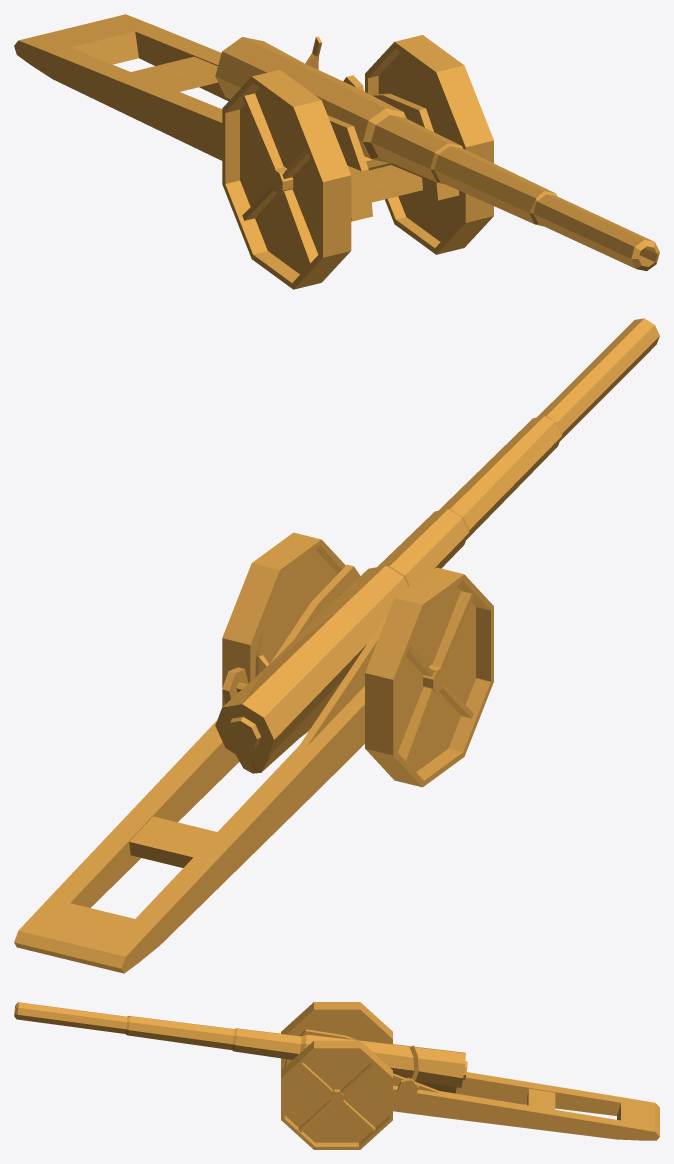
The model's file is zulu-cannon-naval.glb.
3 views of the same model, one above another, from view 1: azimuth 30°, elevation 25°; view 2: azimuth 150°, elevation 25°; view 3: azimuth 270°, elevation 25° (orthographic). The views are drawn at different scales.
Visible parts, largest first — view 1: cannon-naval; view 2: cannon-naval; view 3: cannon-naval.
Part boxes in pixels (x1,y1,x2,y2): cannon-naval: (14, 14, 659, 289); cannon-naval: (14, 318, 659, 973); cannon-naval: (14, 1002, 659, 1149).
Size of the model in its own units: 1.21 by 1.51 by 7.12.
